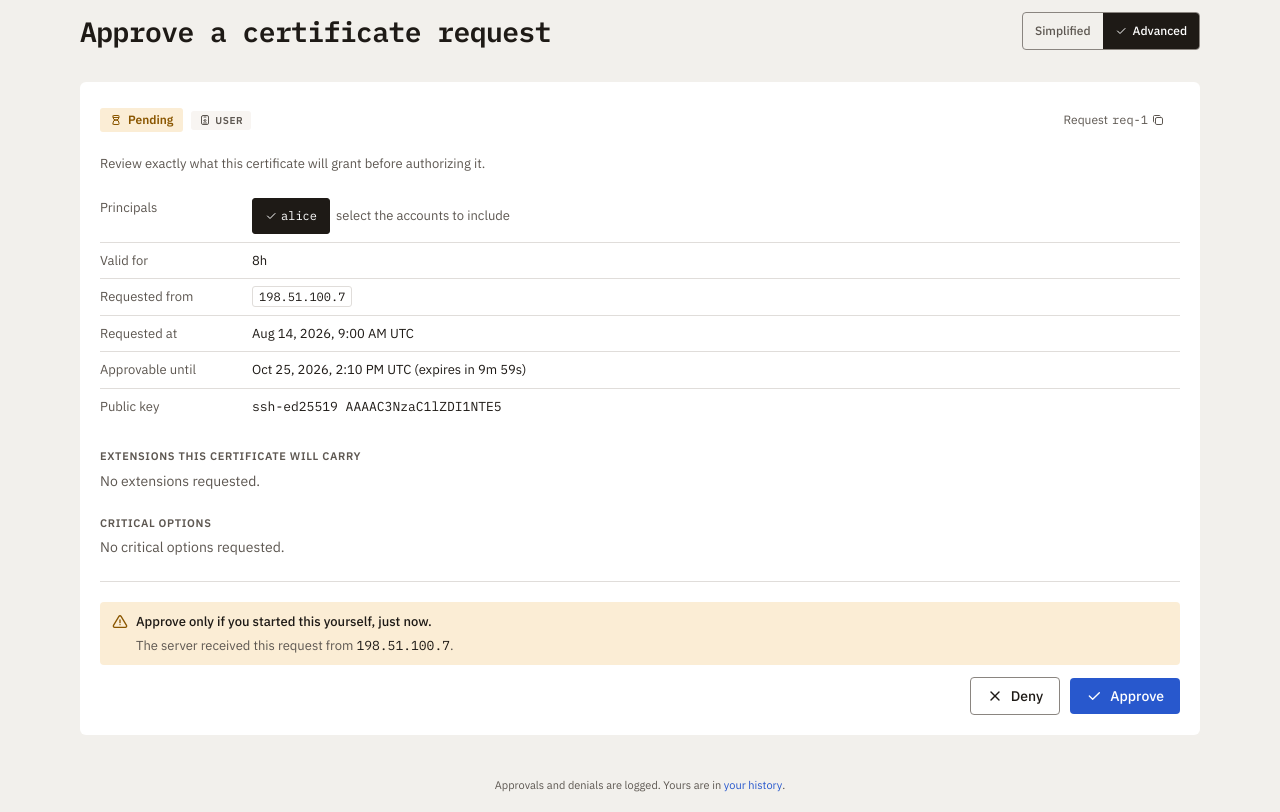
Test: after a decision goes through › should show approved on the badge after approve-button on a user request
Click the button with test id "approve-button" at (1125, 696), box [1070, 678, 1180, 714]
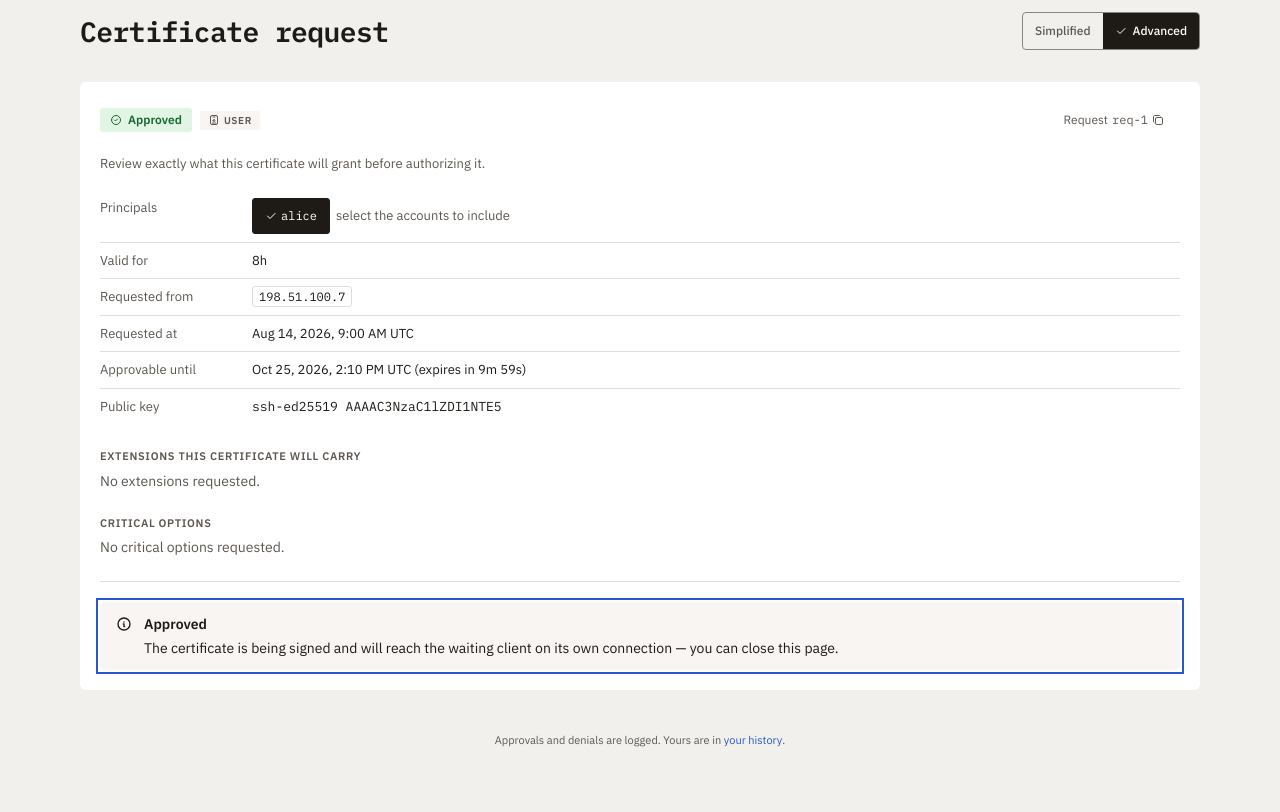
Expected: the element with test id "request-status" reads "approved", [128, 112, 182, 127]
